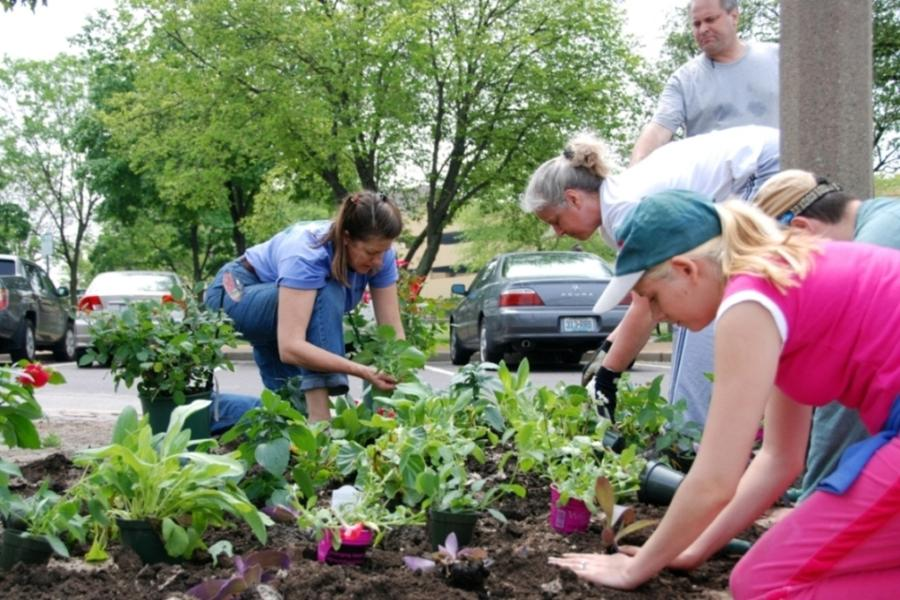person: (205, 191, 408, 430)
